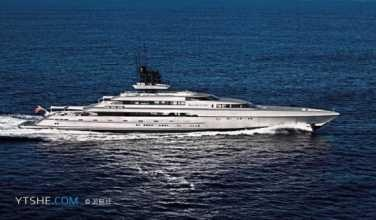yacht: (20, 67, 342, 133)
